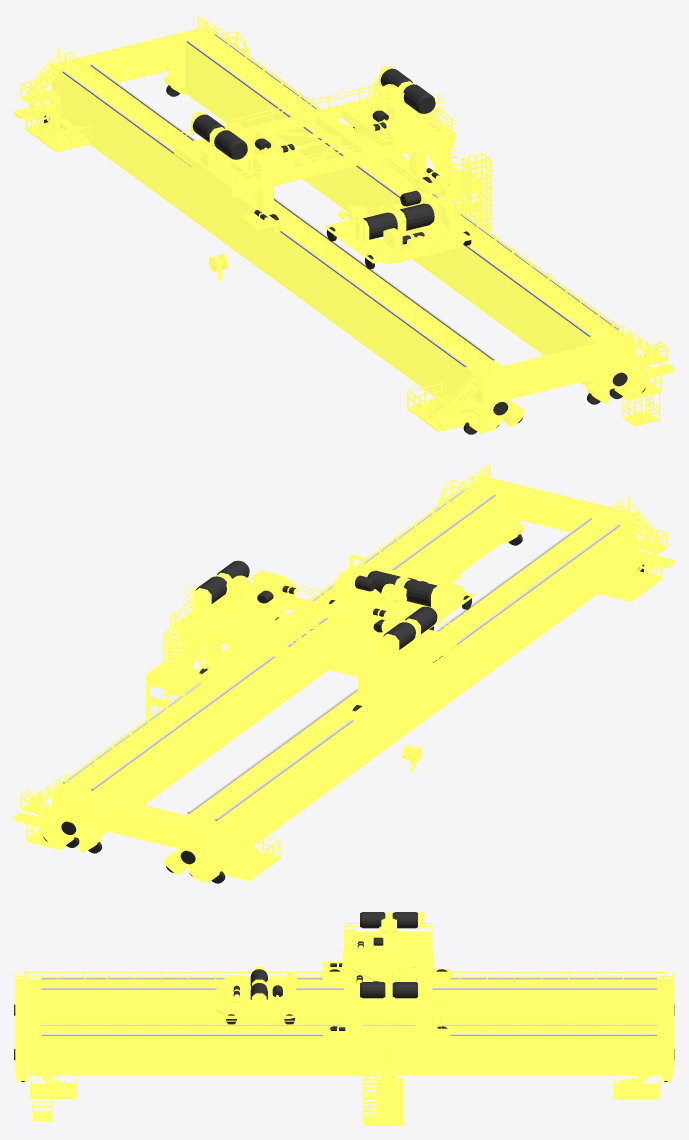
The picture shows the model from 3 angles, top to bottom: view 1: azimuth 30°, elevation 25°; view 2: azimuth 150°, elevation 25°; view 3: azimuth 270°, elevation 25°; orthographic projection. The views are drawn at different scales.
Visible parts, largest first — view 1: 2_Bay_C_871_Body, 2_Bay_C_871_Head_01, 2_Bay_C_871_Head_02; view 2: 2_Bay_C_871_Body, 2_Bay_C_871_Head_01, 2_Bay_C_871_Head_02; view 3: 2_Bay_C_871_Body, 2_Bay_C_871_Head_01, 2_Bay_C_871_Head_02.
Part boxes in pixels (x1,y1,x2,y2): 2_Bay_C_871_Body: (14,14,674,434); 2_Bay_C_871_Head_01: (174,65,491,280); 2_Bay_C_871_Head_02: (323,190,477,269); 2_Bay_C_871_Body: (14,463,674,883); 2_Bay_C_871_Head_01: (146,560,459,771); 2_Bay_C_871_Head_02: (322,554,475,630); 2_Bay_C_871_Body: (14,970,674,1121); 2_Bay_C_871_Head_01: (319,912,453,1125); 2_Bay_C_871_Head_02: (216,966,296,1024).
Size of the model in its own units: 16.97 by 10.15 by 46.11.
